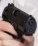pistol: (1, 1, 38, 41)
